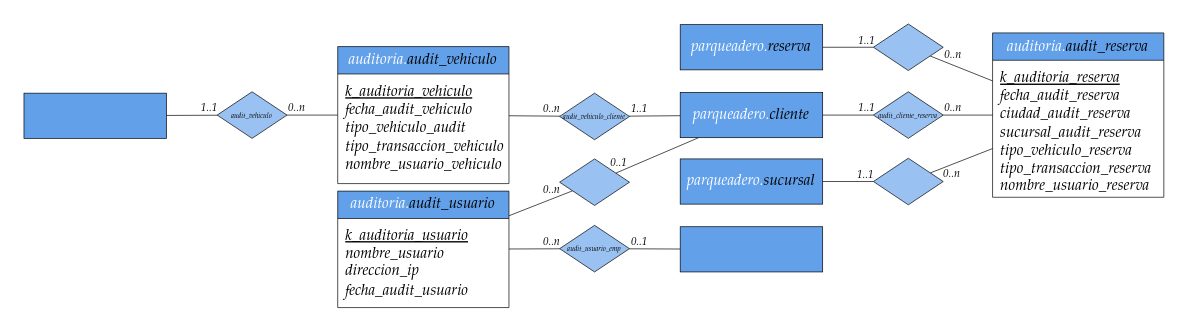
Some shapes in this 1188 by 332 pixel diagram are drawn without their labels. Here are the shapes that lost their labels. From the top down, the centre of each, then its label:
At point (907, 46): "audit_reserva".
At point (94, 115): "parqueadero. vehiculo".
At point (594, 181): "audit_usuario_cliente".
At point (907, 181): "audit_reserva_sucur".
At point (750, 249): "parqueadero. empleado".
